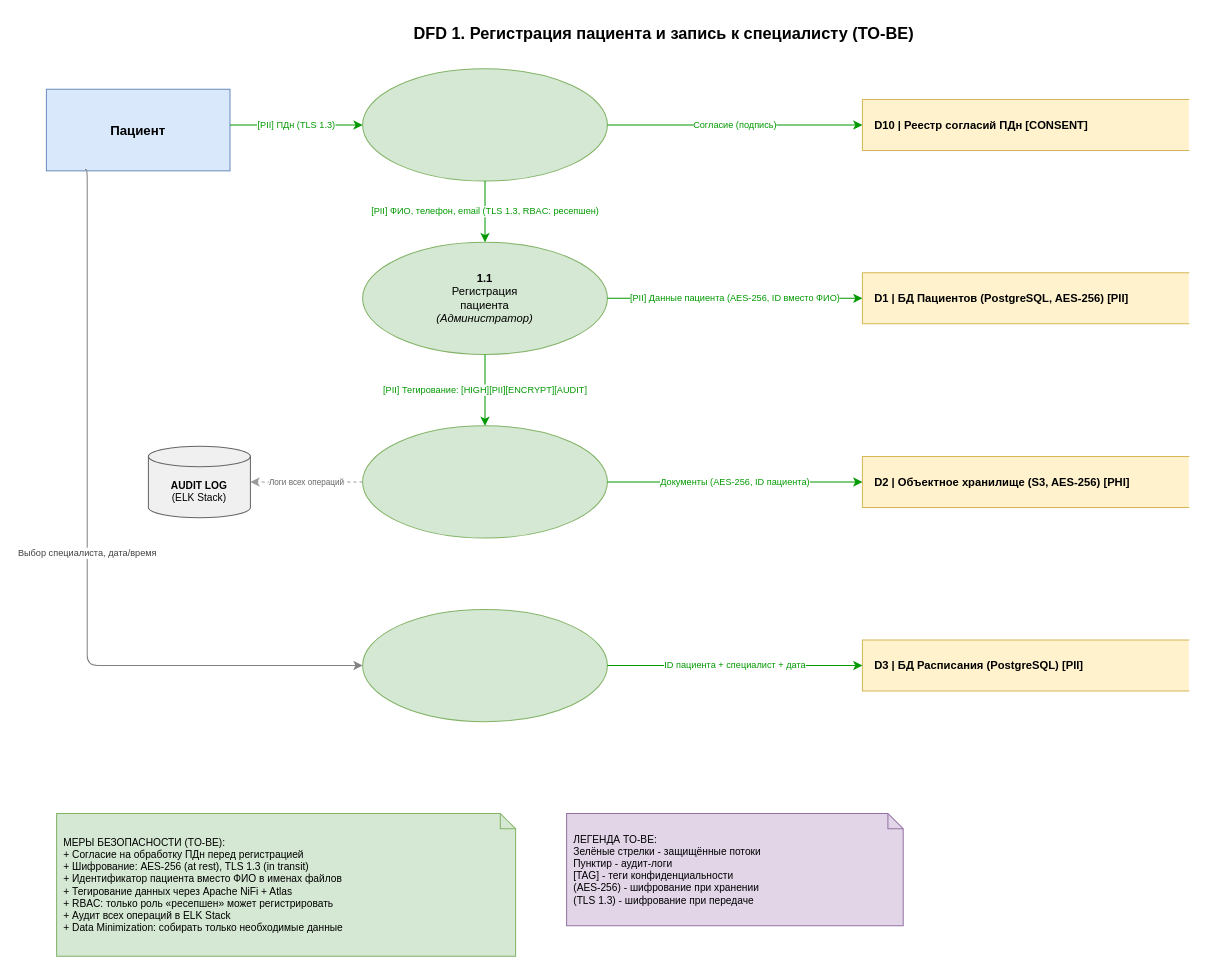
Some shapes in this 1207 by 974 pixel diagram are drawn without their labels. Here are the shapes that lost their labels. From the top down, the centre of each, then its label:
At pixel 484 124: "1.0 Получение согласия на обработку ПДн (Администратор)".
At pixel 484 481: "1.2 Тегирование и сохранение данных (Apache NiFi)".
At pixel 484 665: "1.3 Запись к специалисту (Администратор)".
